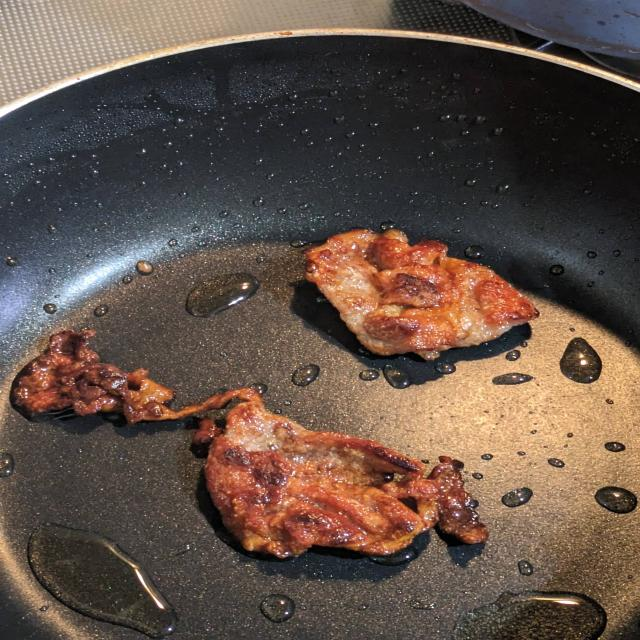overcooked pork: (0, 318, 500, 570), (283, 219, 556, 374)
